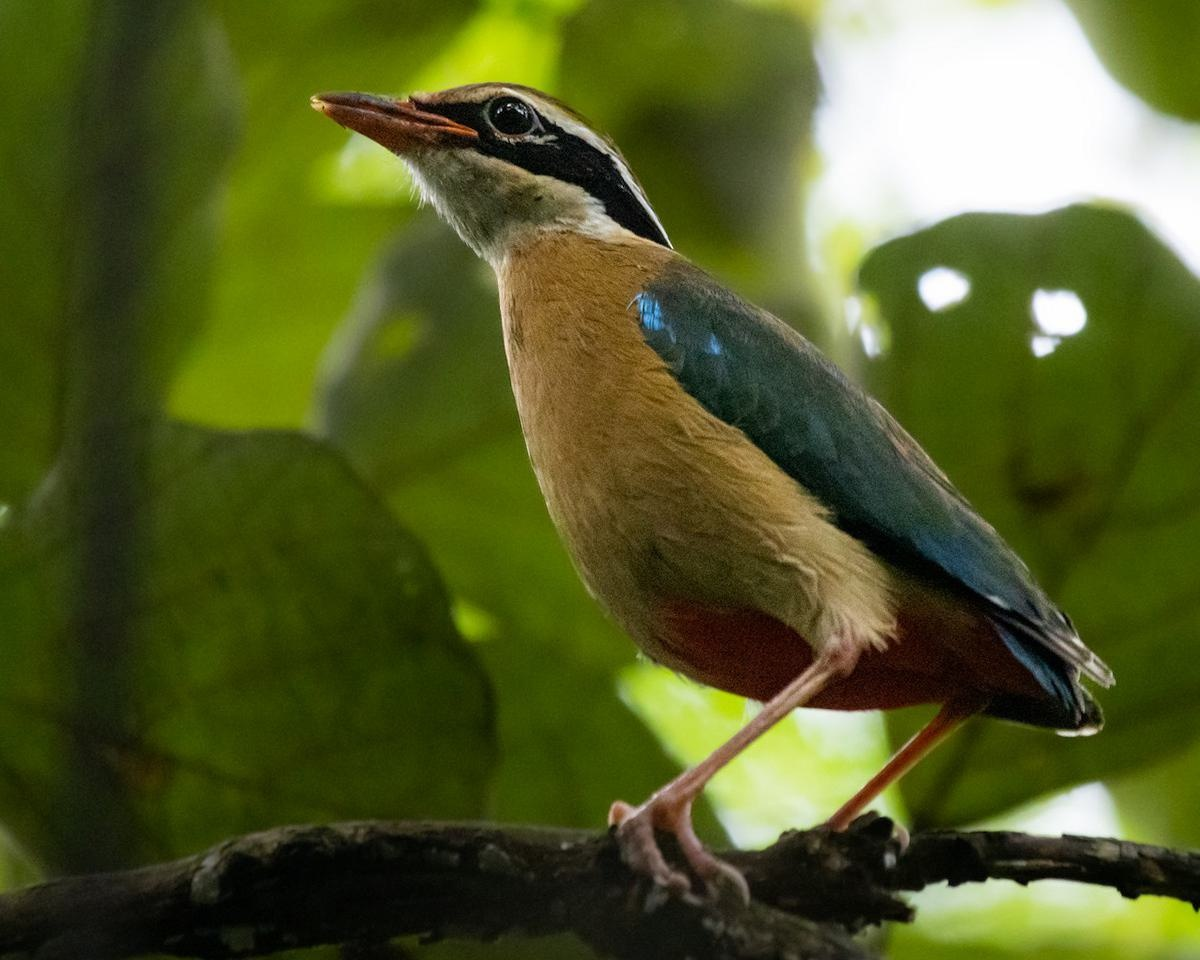pitta: (290, 46, 1089, 821)
